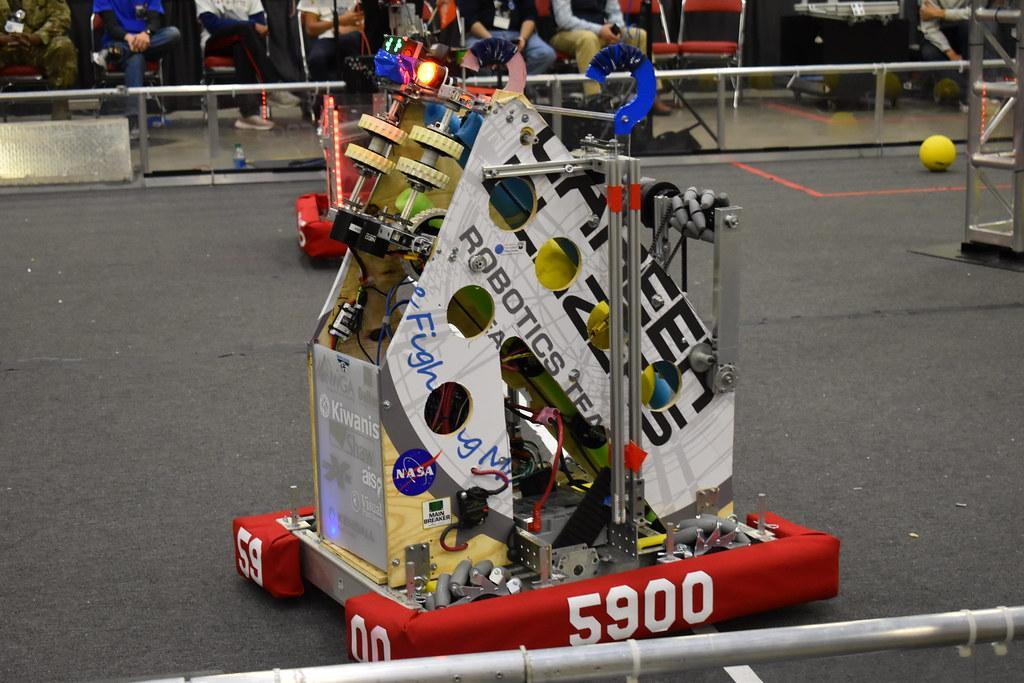robot: (225, 29, 845, 670), (291, 17, 560, 278)
